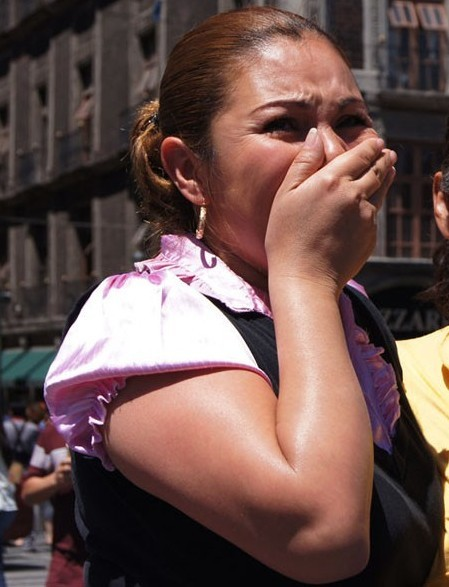face: (215, 40, 377, 282)
